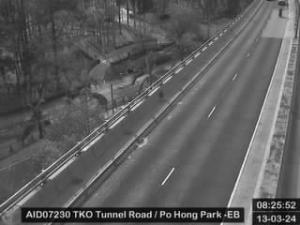motorbike: (278, 7, 282, 18)
vehicle: (278, 1, 286, 6)
